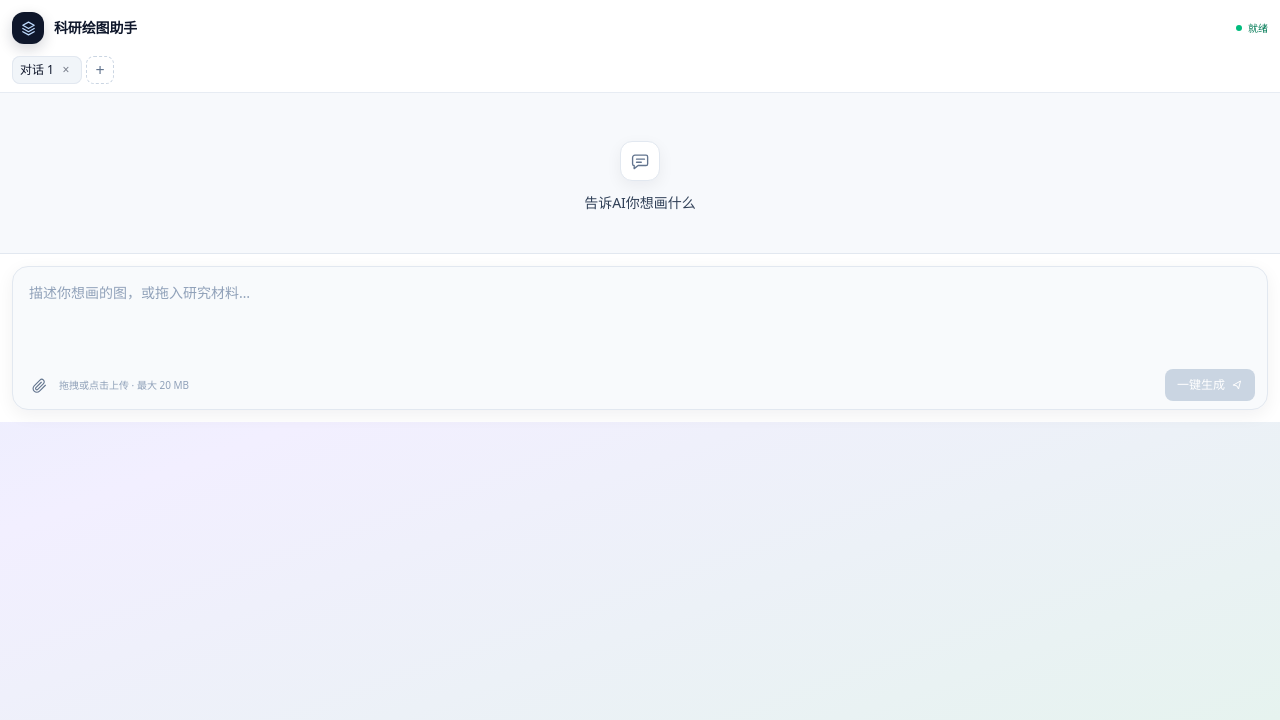
Test: ChatPanel › 用户与 AI 消息气泡都带出现动画类 msg-in
In the text box with placeholder "描述你想画的图，或拖入研究材料…": {"x": 640, "y": 317} [21, 275, 1259, 359], type "画一个矩形"
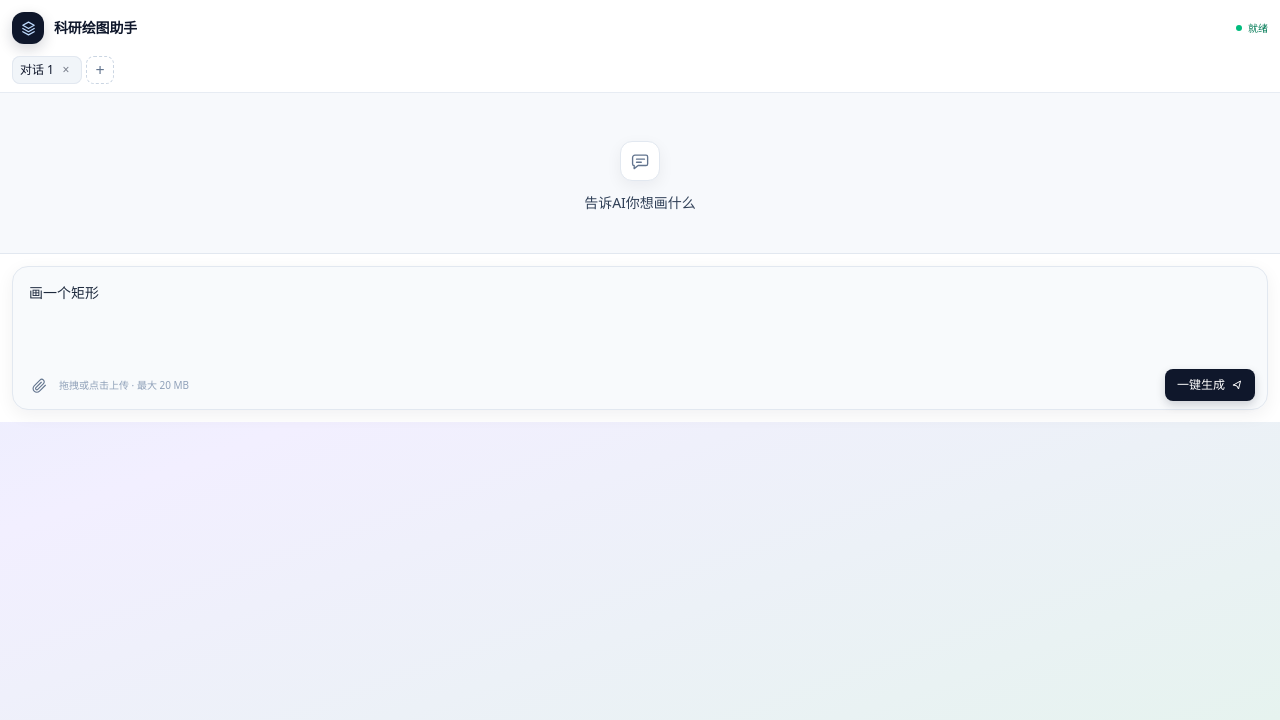
Click the button "一键生成": {"x": 1210, "y": 385} [1165, 369, 1255, 401]
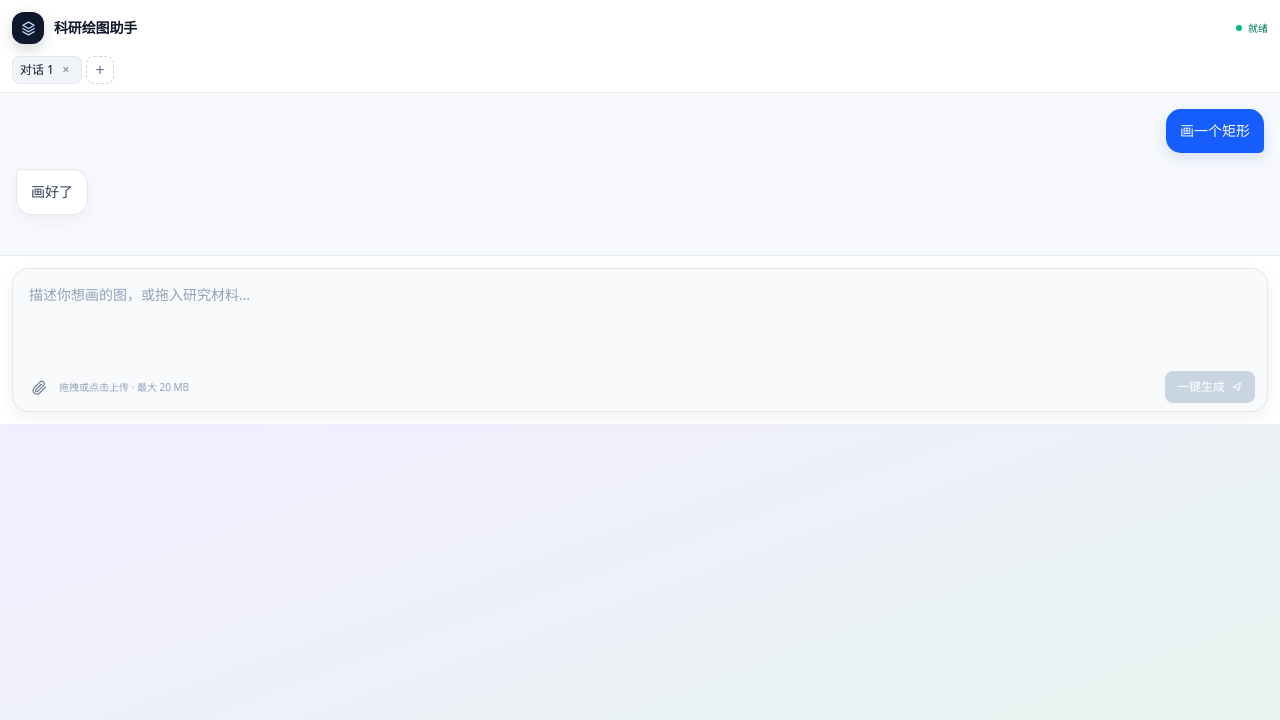
Now the text "画好了" is shown, box [16, 169, 88, 215]
